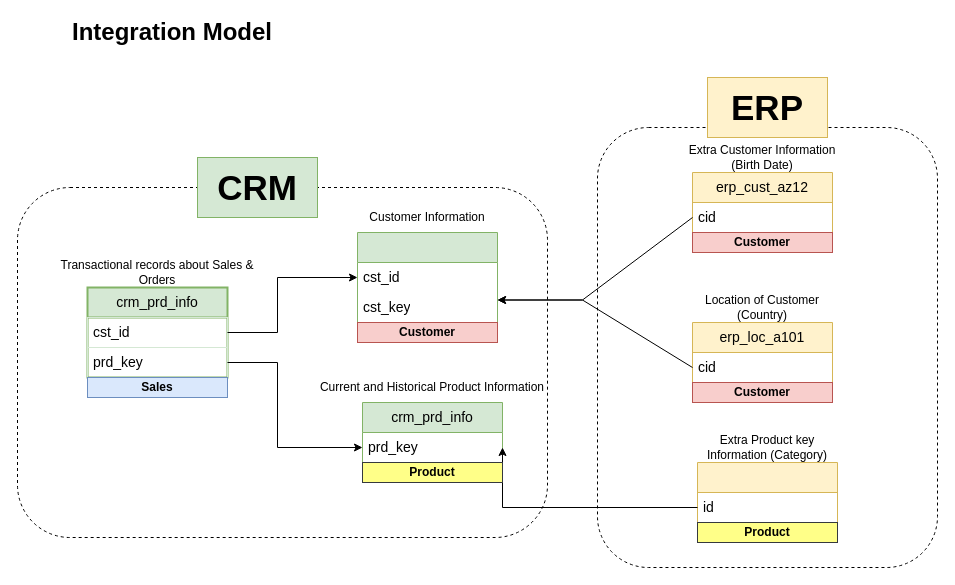
This 955x585 diagram has some shape labels left out. Here are the shapes that lost their labels. From the top down, the box of each, then its label:
(356, 232, 498, 322): crm_cust_info
(696, 462, 838, 522): erp_px_cat_g1v2
